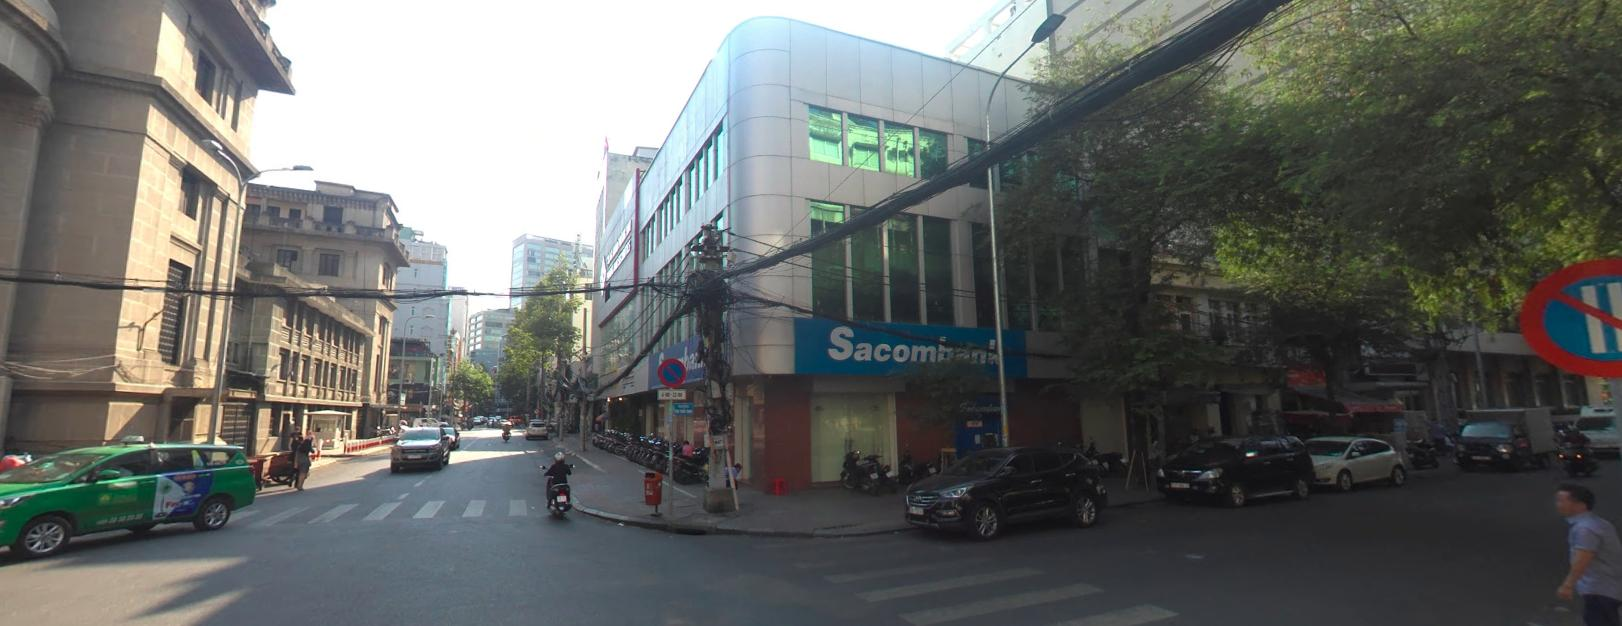Cam dung va do: (1516, 254, 1621, 378), (656, 355, 686, 385)
